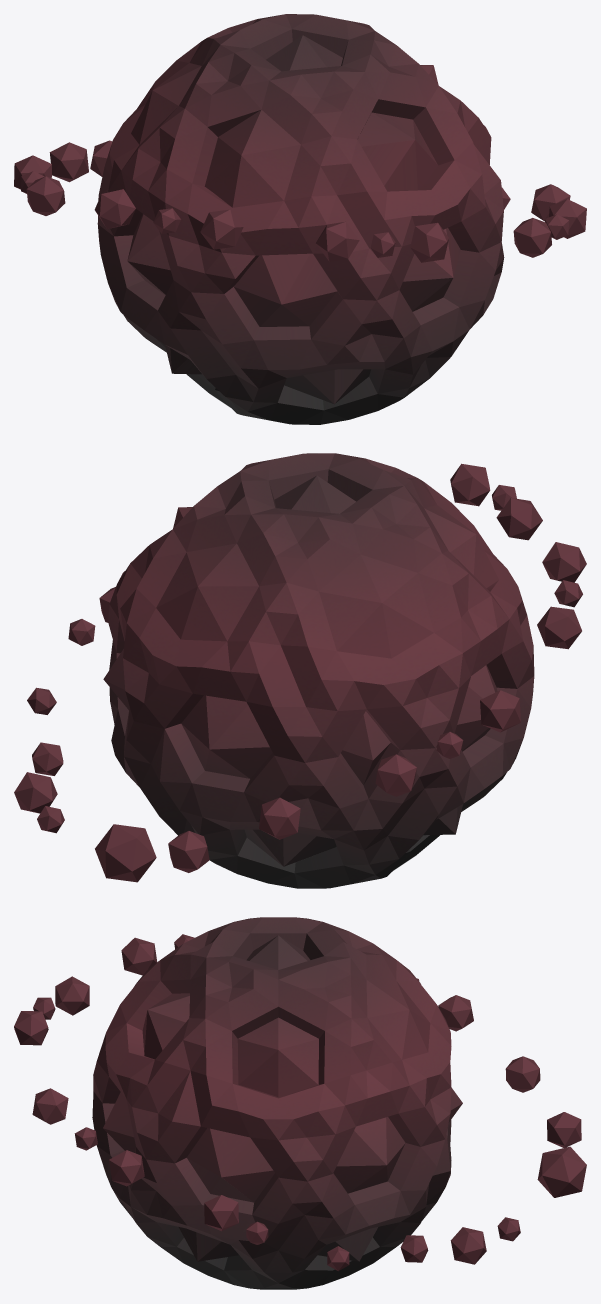
File: Rocky_Planet_Stage2.FBX
3 views of the same model, one above another, from view 1: azimuth 30°, elevation 25°; view 2: azimuth 150°, elevation 25°; view 3: azimuth 270°, elevation 25° (orthographic). The views are drawn at different scales.
Visible parts, largest first — view 1: Rocky_Planet_Stage_2; view 2: Rocky_Planet_Stage_2; view 3: Rocky_Planet_Stage_2.
Part boxes in pixels (<box>): Rocky_Planet_Stage_2: <box>14,14,586,424</box>; Rocky_Planet_Stage_2: <box>14,453,586,888</box>; Rocky_Planet_Stage_2: <box>14,917,586,1289</box>.
Bounding box in the file's own units: 159 × 117 × 182.
Materials: 2 (2 with a texture image).
